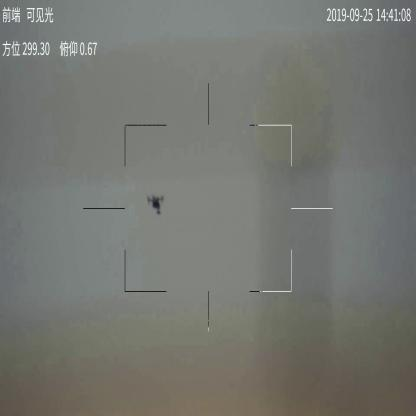uav: (144, 194, 165, 216)
